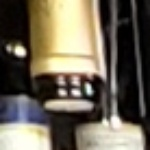bottle: (14, 40, 123, 140)
